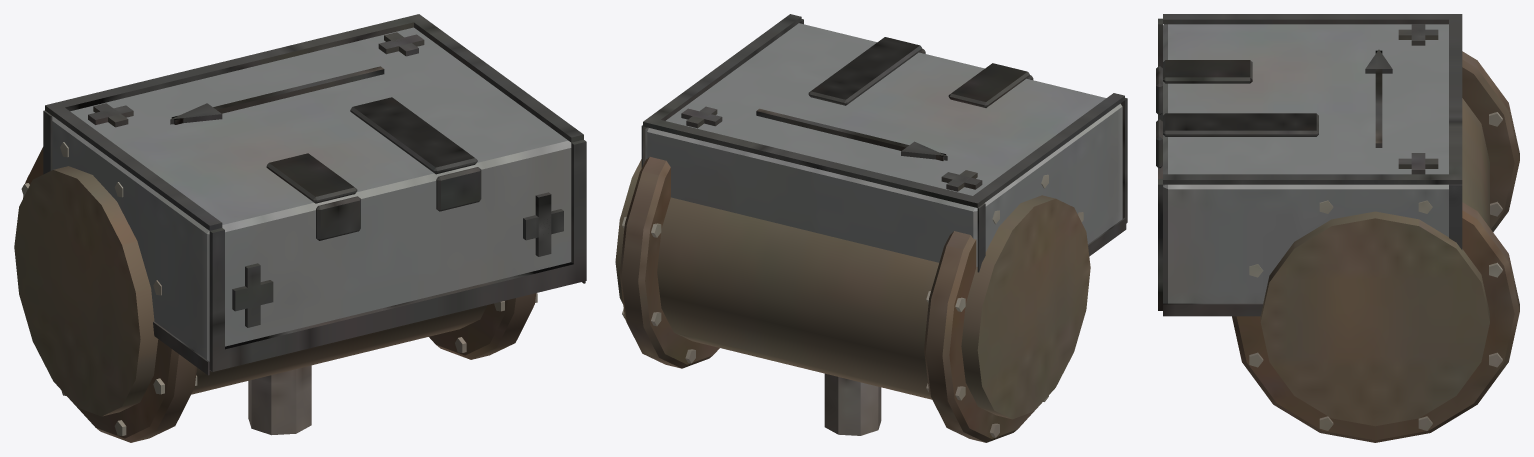
Rendered from overflow-valve-west.glb.
The picture shows the model from 3 angles, left to right: view 1: azimuth 30°, elevation 25°; view 2: azimuth 150°, elevation 25°; view 3: azimuth 270°, elevation 25°; orthographic projection. The views are drawn at different scales.
Visible parts, largest first — view 1: body; view 2: body; view 3: body.
Part boxes in pixels (box(x1,y1,x2,y2)): body: box(14, 14, 586, 442); body: box(615, 14, 1127, 442); body: box(1156, 14, 1519, 442).
Size of the model in its own units: 1 by 0.776 by 0.856.
Materials: 1 (1 with a texture image).
